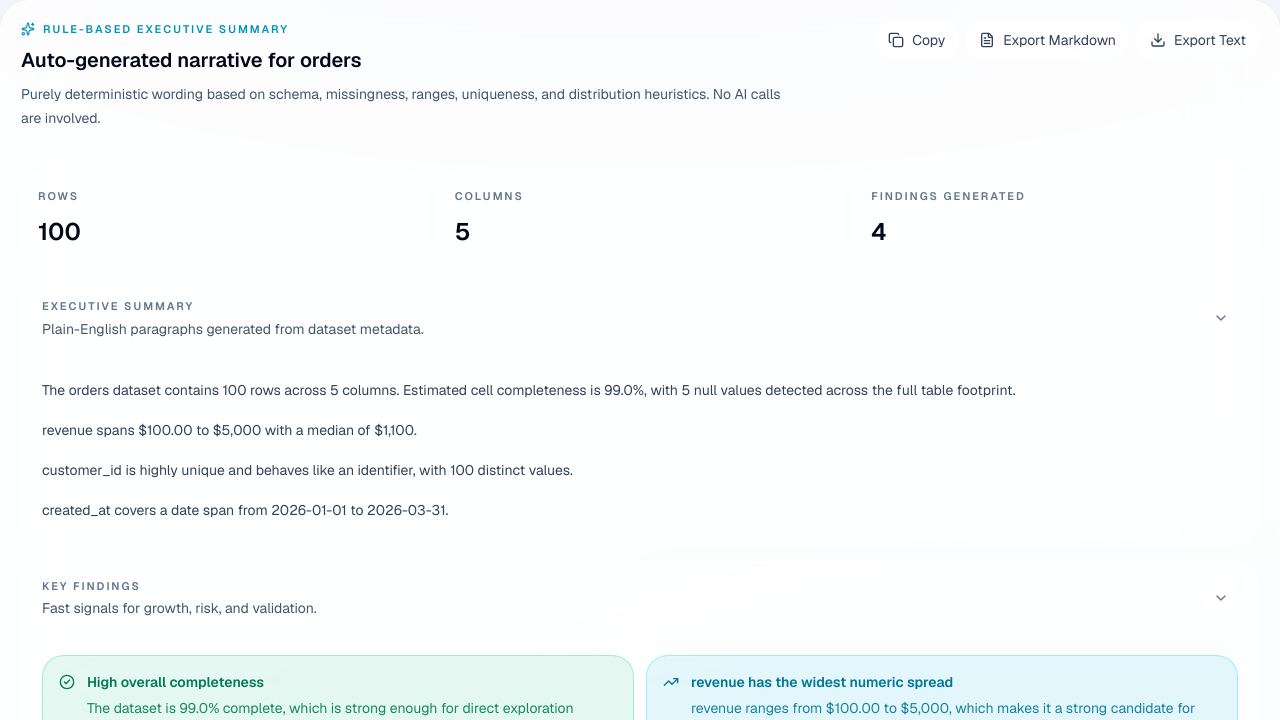
Scenario: DataSummarizer › exports the executive summary as plain text
The width and height of the screenshot is (1280, 720).
Click the button "Export Text".
click(1198, 40)  # box [1137, 21, 1259, 59]
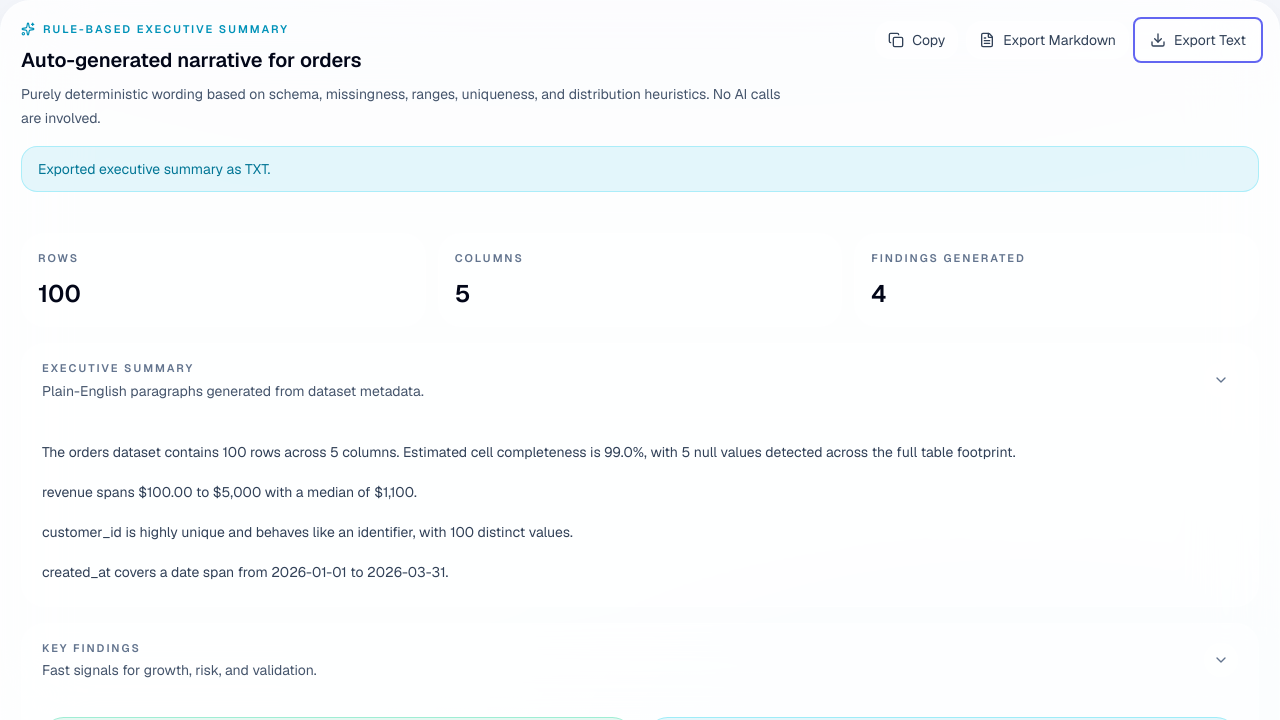
Expected: the text "Exported executive summary as TXT." is shown, [21, 146, 1259, 192]
